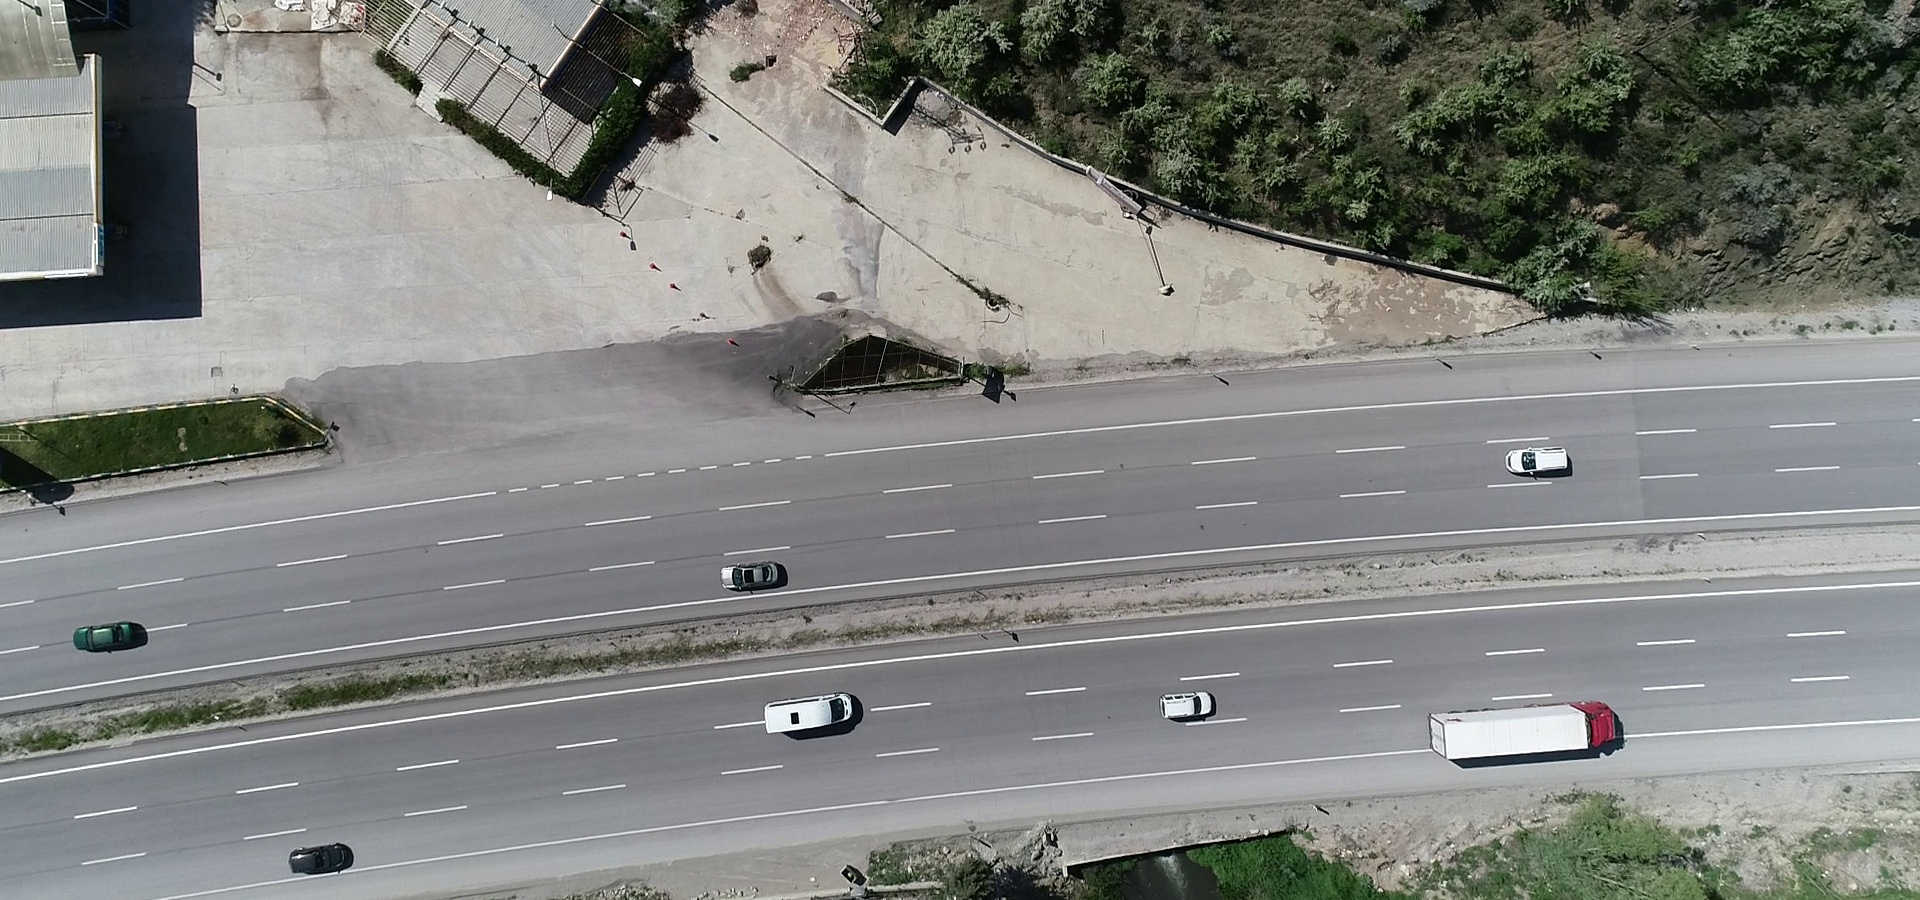arac: (1425, 691, 1626, 769), (758, 684, 869, 740), (280, 838, 367, 883), (69, 617, 158, 658), (719, 556, 796, 599), (1502, 442, 1573, 479), (1157, 684, 1221, 719)
